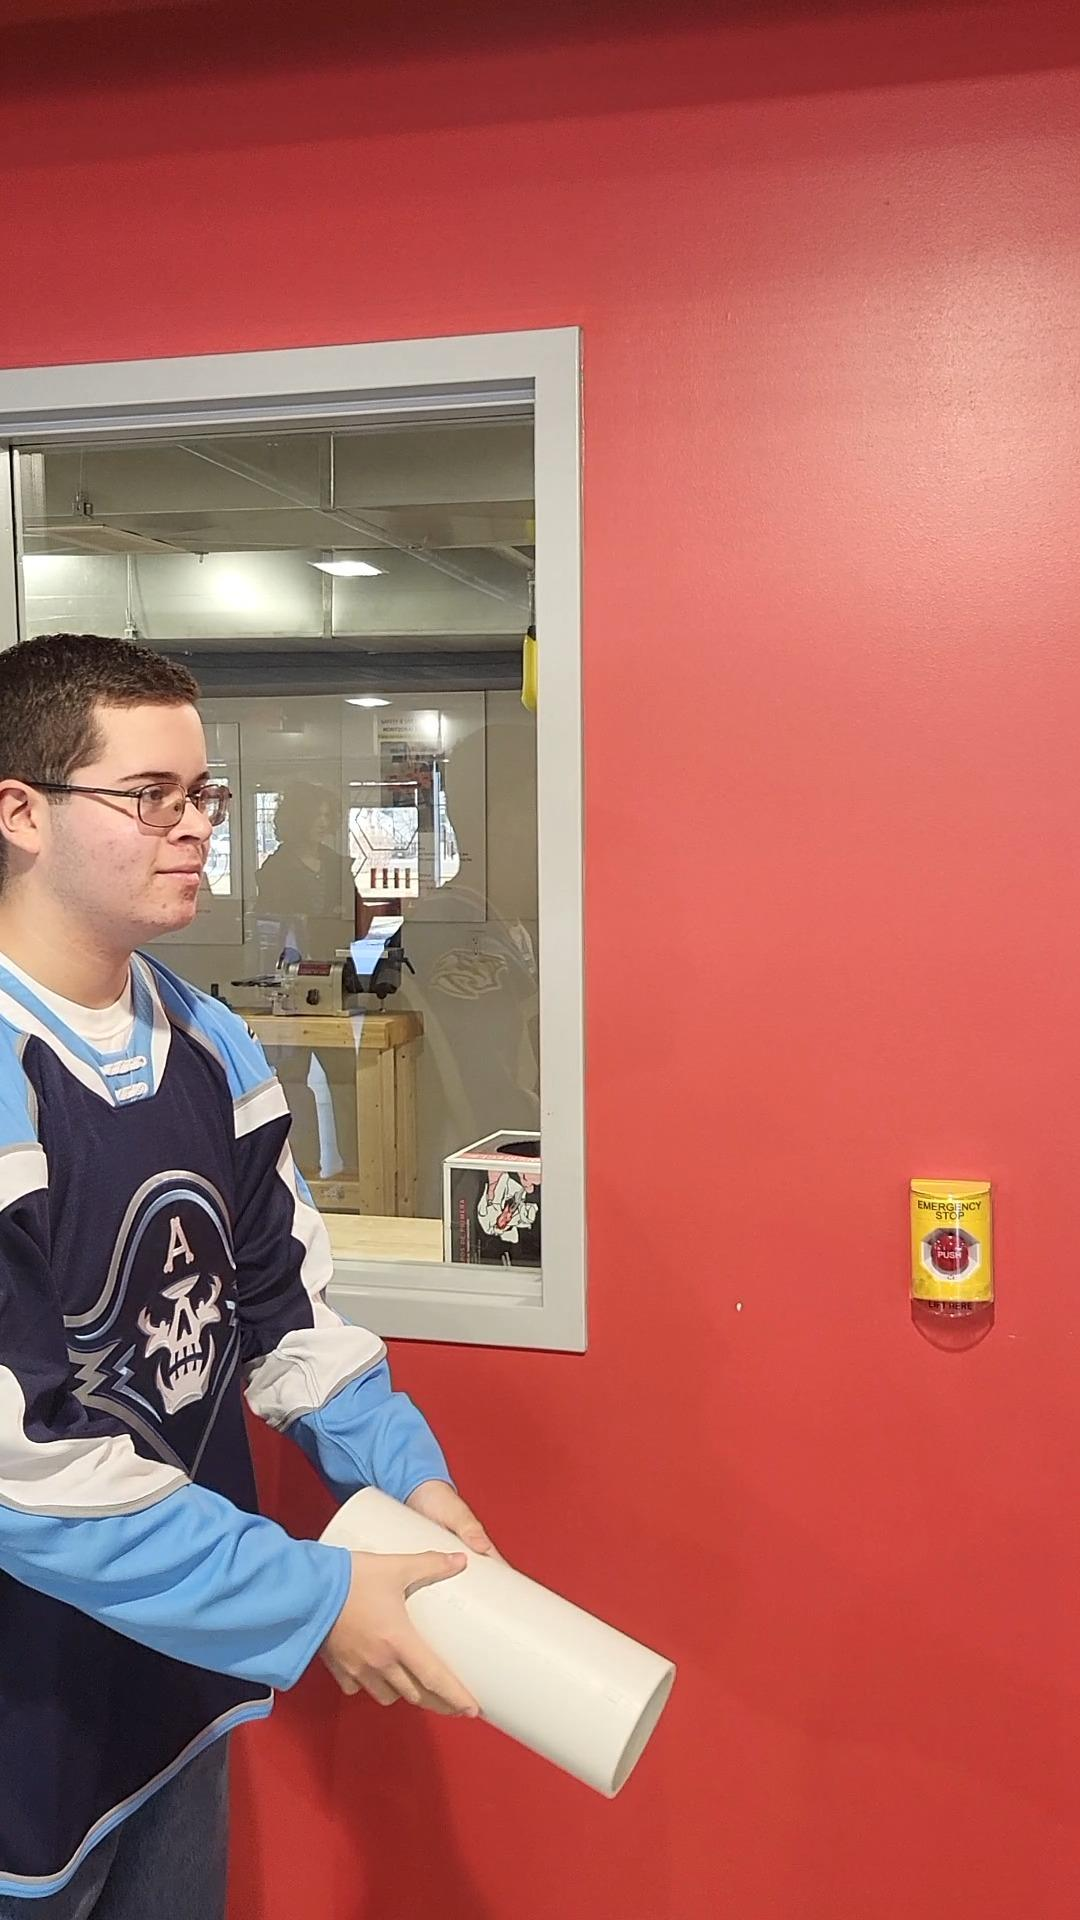coral: (314, 1481, 687, 1789)
